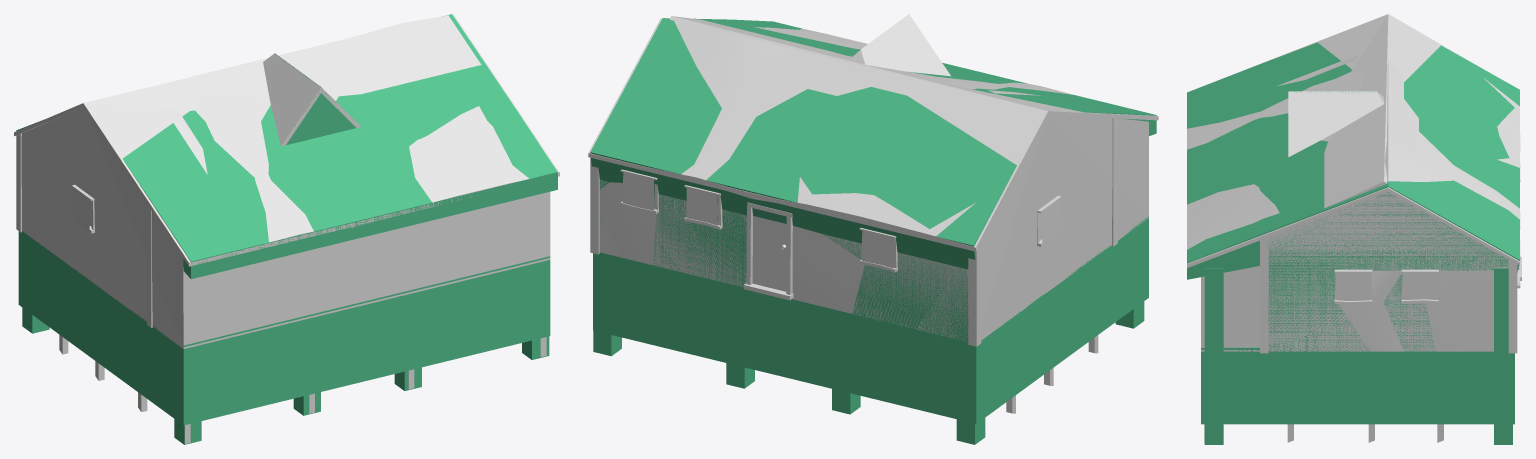
Rendered from eca_bld_creepyhouse_1.dae.
3 renders of one model, left to right at view 1: azimuth 30°, elevation 25°; view 2: azimuth 150°, elevation 25°; view 3: azimuth 270°, elevation 25°, orthographic. The views are drawn at different scales.
Parts seen in each view (by area): view 1: Colmesh-1, ind_bld_a20, ind_bld_a400, ind_bld_a100; view 2: Colmesh-1, ind_bld_a400, ind_bld_a100, ind_bld_a20; view 3: Colmesh-1, ind_bld_a100, ind_bld_a400, ind_bld_a20.
Boxes of the visible parts, left/top/right/bottom form: Colmesh-1: left=16, top=14, right=557, bottom=444; ind_bld_a20: left=21, top=15, right=550, bottom=346; ind_bld_a400: left=14, top=14, right=559, bottom=413; ind_bld_a100: left=14, top=15, right=559, bottom=443; Colmesh-1: left=590, top=18, right=1156, bottom=444; ind_bld_a400: left=588, top=18, right=1157, bottom=413; ind_bld_a100: left=588, top=14, right=1158, bottom=346; ind_bld_a20: left=669, top=16, right=1148, bottom=340; Colmesh-1: left=1187, top=42, right=1519, bottom=444; ind_bld_a100: left=1187, top=14, right=1521, bottom=442; ind_bld_a400: left=1187, top=52, right=1520, bottom=442; ind_bld_a20: left=1201, top=14, right=1388, bottom=347.
Size of the model in its own units: 10.25 by 8.31 by 7.34.
